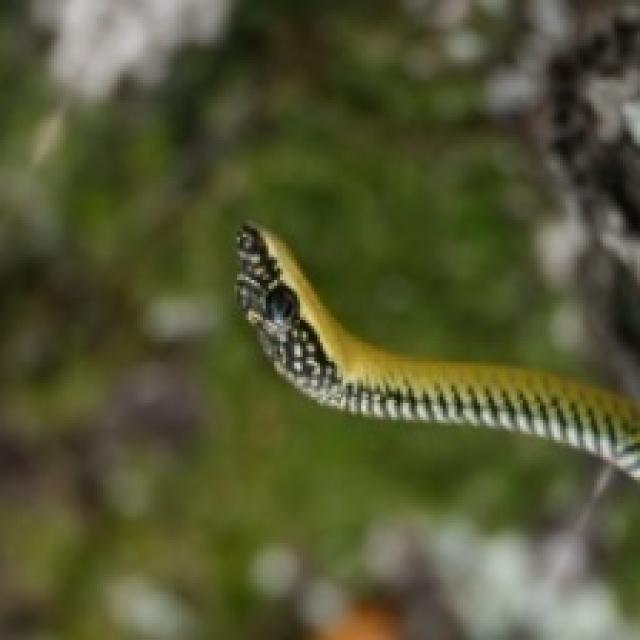paradise tree snake: (234, 223, 637, 480), (234, 223, 637, 477)
